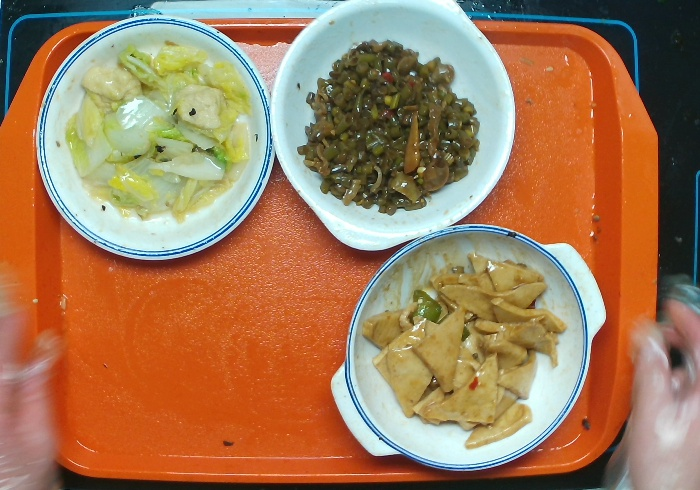HZYJPL-Dai_Er_Bai_Yuan_Wan: (269, 4, 517, 253)
HZYJPL-Lan_Bian_Dai_Er_Wan: (331, 222, 610, 475)
HZYJPL-Lan_Bian_Yuan_Die: (31, 18, 273, 264)
